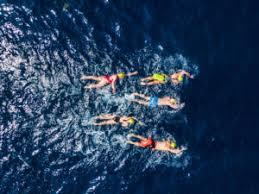Person: (125, 132, 189, 157), (78, 69, 140, 92), (83, 112, 147, 131), (128, 93, 185, 113), (139, 69, 167, 90), (168, 70, 195, 87)
